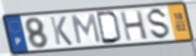8: (25, 16, 51, 49)
D: (95, 10, 123, 45)
H: (118, 9, 150, 42)
K: (48, 16, 75, 47)
M: (70, 13, 103, 46)
S: (147, 7, 172, 41)
